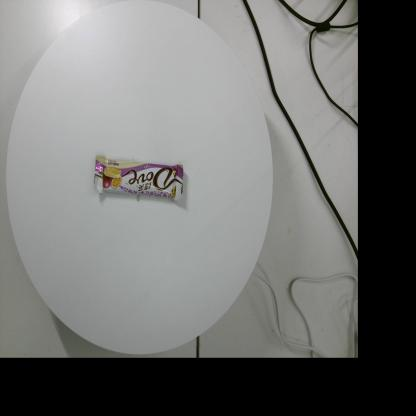Chocolate: (93, 154, 184, 202)
